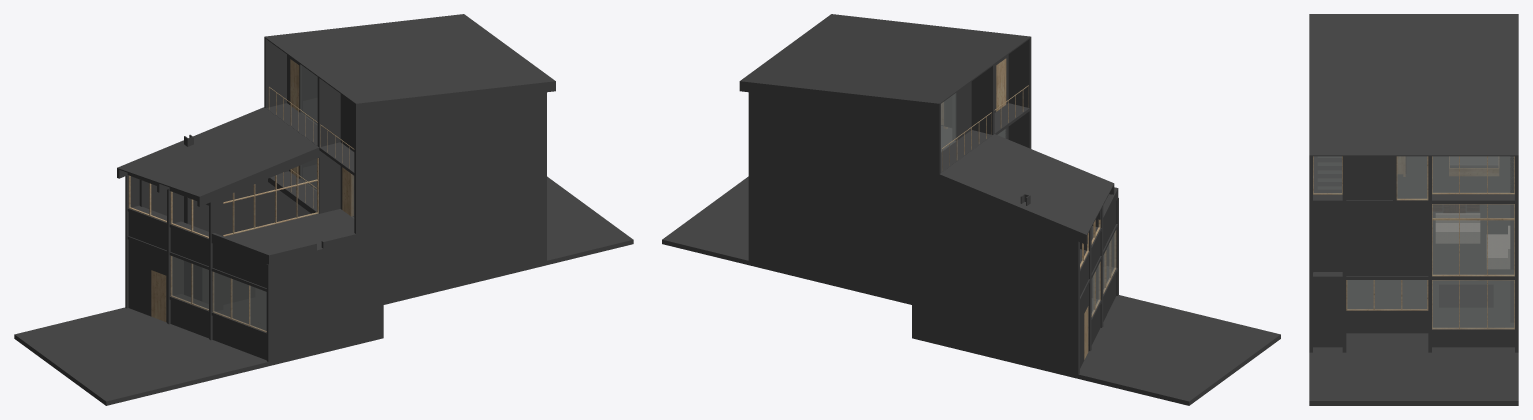
File: Projet V12 Leihouse.obj
3 views of the same model, side by side, from view 1: azimuth 30°, elevation 25°; view 2: azimuth 150°, elevation 25°; view 3: azimuth 270°, elevation 25° (orthographic). The views are drawn at different scales.
Visible parts, largest first — view 1: 01_PORTEUR Peinture_-_Gris_clair, 01_DALLE/PLANCHER Peinture_-_Gris_clair, 01_PORTEUR Verre_-_Clair_rapide, 01_PORTEUR Bois_-_Pin_granuleux_horizontal, 01_DALLE/PLANCHER Bois_-_Pin_granuleux_horizontal; view 2: 01_PORTEUR Peinture_-_Gris_clair, 01_DALLE/PLANCHER Peinture_-_Gris_clair, 01_PORTEUR Bois_-_Pin_granuleux_horizontal, 01_PORTEUR Verre_-_Clair_rapide; view 3: 01_PORTEUR Peinture_-_Gris_clair, 01_DALLE/PLANCHER Peinture_-_Gris_clair, 01_PORTEUR Verre_-_Clair_rapide, 00_COTATION Textile_-_01, 01_DALLE/PLANCHER Bois_-_Pin_granuleux_horizontal, 01_PORTEUR Bois_-_Pin_granuleux_horizontal, 03_ESCALIER_3D Peinture_-_Gris_clair FLAT_PART, 00_COTATION Bois_-_Pin_granuleux_horizontal FLAT_PART, 00_COTATION Peinture_-_Blanc_titanium FLAT_PART, 00_COTATION Bois_-_Noyer_horizontal.
Boxes of the visible parts, x1,y1,x2,y2 form: 01_PORTEUR Peinture_-_Gris_clair: [117, 14, 555, 361]; 01_DALLE/PLANCHER Peinture_-_Gris_clair: [14, 98, 633, 405]; 01_PORTEUR Verre_-_Clair_rapide: [171, 64, 354, 331]; 01_PORTEUR Bois_-_Pin_granuleux_horizontal: [128, 59, 354, 325]; 01_DALLE/PLANCHER Bois_-_Pin_granuleux_horizontal: [129, 179, 318, 332]; 01_PORTEUR Peinture_-_Gris_clair: [739, 14, 1118, 374]; 01_DALLE/PLANCHER Peinture_-_Gris_clair: [662, 103, 1280, 405]; 01_PORTEUR Bois_-_Pin_granuleux_horizontal: [942, 58, 1116, 359]; 01_PORTEUR Verre_-_Clair_rapide: [941, 93, 1115, 315]; 01_PORTEUR Peinture_-_Gris_clair: [1309, 14, 1518, 352]; 01_DALLE/PLANCHER Peinture_-_Gris_clair: [1309, 156, 1518, 405]; 01_PORTEUR Verre_-_Clair_rapide: [1313, 156, 1514, 328]; 00_COTATION Textile_-_01: [1436, 213, 1509, 268]; 01_DALLE/PLANCHER Bois_-_Pin_granuleux_horizontal: [1313, 193, 1514, 329]; 01_PORTEUR Bois_-_Pin_granuleux_horizontal: [1313, 156, 1514, 329]; 03_ESCALIER_3D Peinture_-_Gris_clair FLAT_PART: [1318, 156, 1341, 192]; 00_COTATION Bois_-_Pin_granuleux_horizontal FLAT_PART: [1397, 156, 1498, 176]; 00_COTATION Peinture_-_Blanc_titanium FLAT_PART: [1450, 156, 1497, 164]; 00_COTATION Bois_-_Noyer_horizontal: [1433, 204, 1479, 212].
Size of the model in its own units: 24867 by 10875 by 7500.
13 materials, 5 textured.
